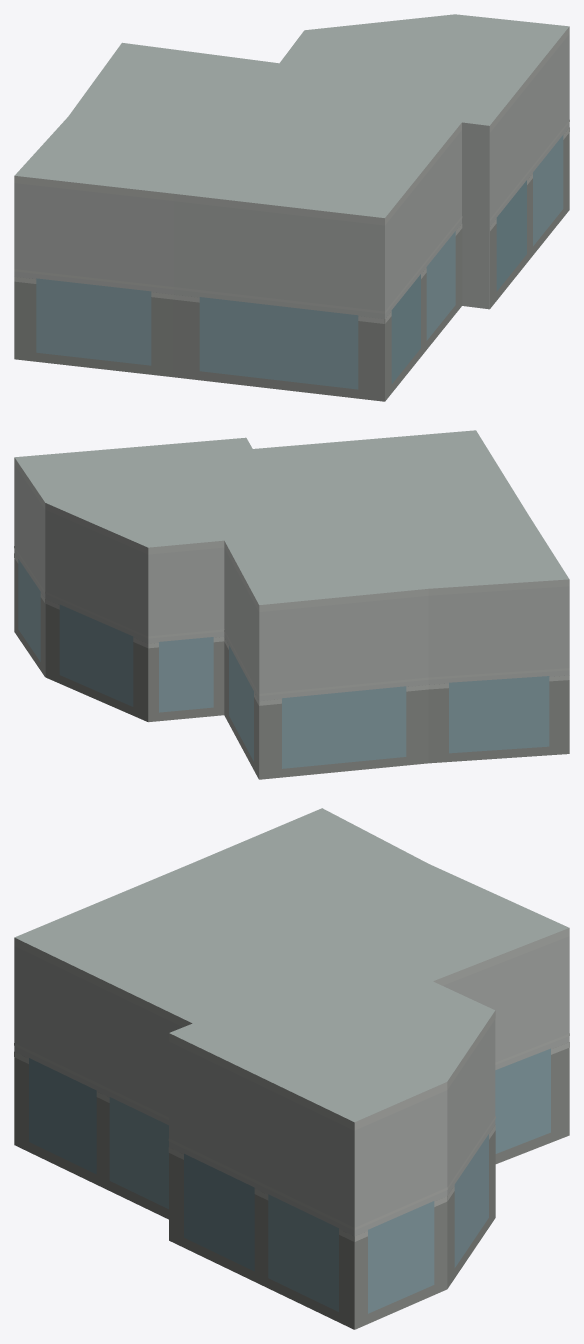
Rendered from survey-upis-32833376.glb.
The picture shows the model from 3 angles, top to bottom: view 1: azimuth 30°, elevation 25°; view 2: azimuth 150°, elevation 25°; view 3: azimuth 270°, elevation 25°; orthographic projection. The views are drawn at different scales.
Visible parts, largest first — view 1: survey-upis-32833376.tmp; view 2: survey-upis-32833376.tmp; view 3: survey-upis-32833376.tmp.
Boxes of the visible parts, x1,y1,x2,y2 form: survey-upis-32833376.tmp: [14, 14, 569, 401]; survey-upis-32833376.tmp: [14, 430, 569, 779]; survey-upis-32833376.tmp: [14, 808, 569, 1329].
Bounding box in the file's own units: 19.83 × 6.1 × 14.82.
